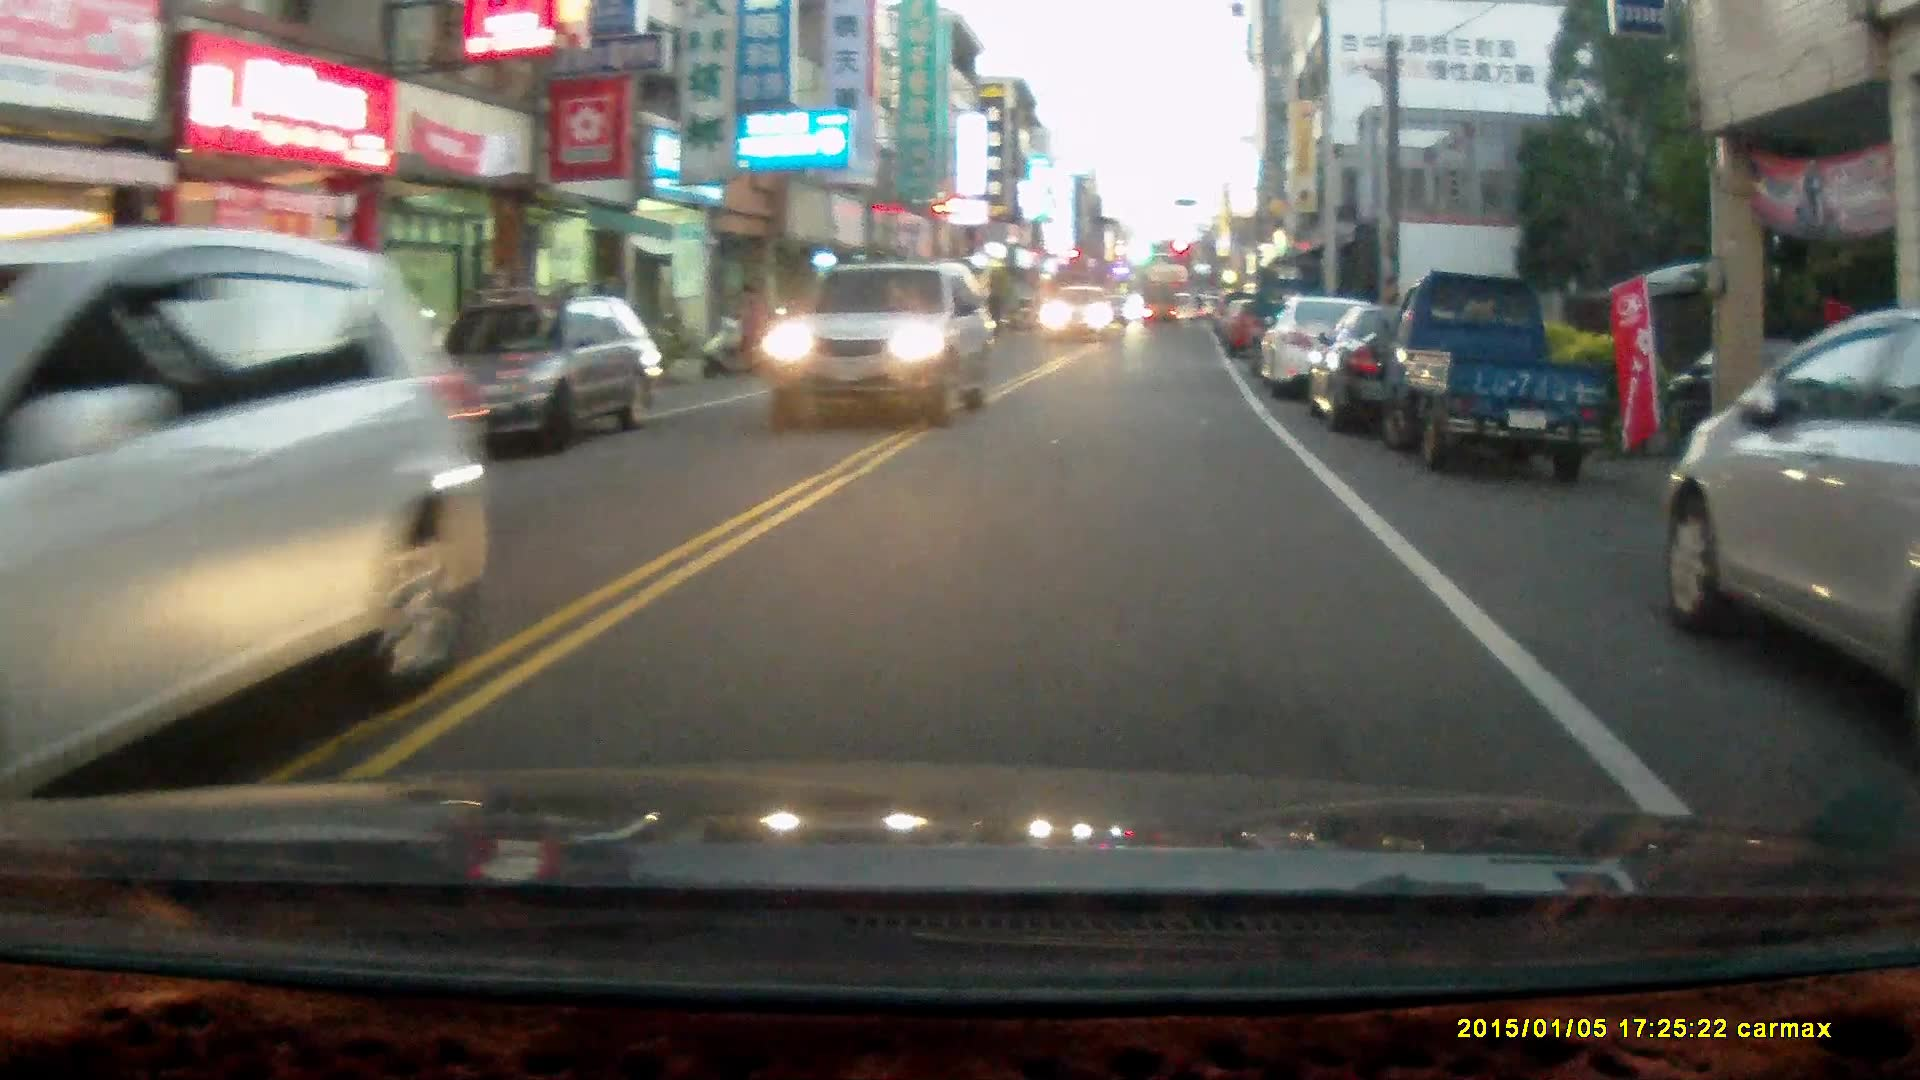pedestrian: (1813, 284, 1866, 456), (738, 278, 764, 369)
vehicle: (1, 225, 497, 794), (1661, 311, 1920, 711), (1375, 269, 1622, 487), (385, 294, 663, 463), (765, 264, 999, 431), (1311, 299, 1515, 436), (1256, 295, 1410, 404), (1039, 287, 1124, 347)
